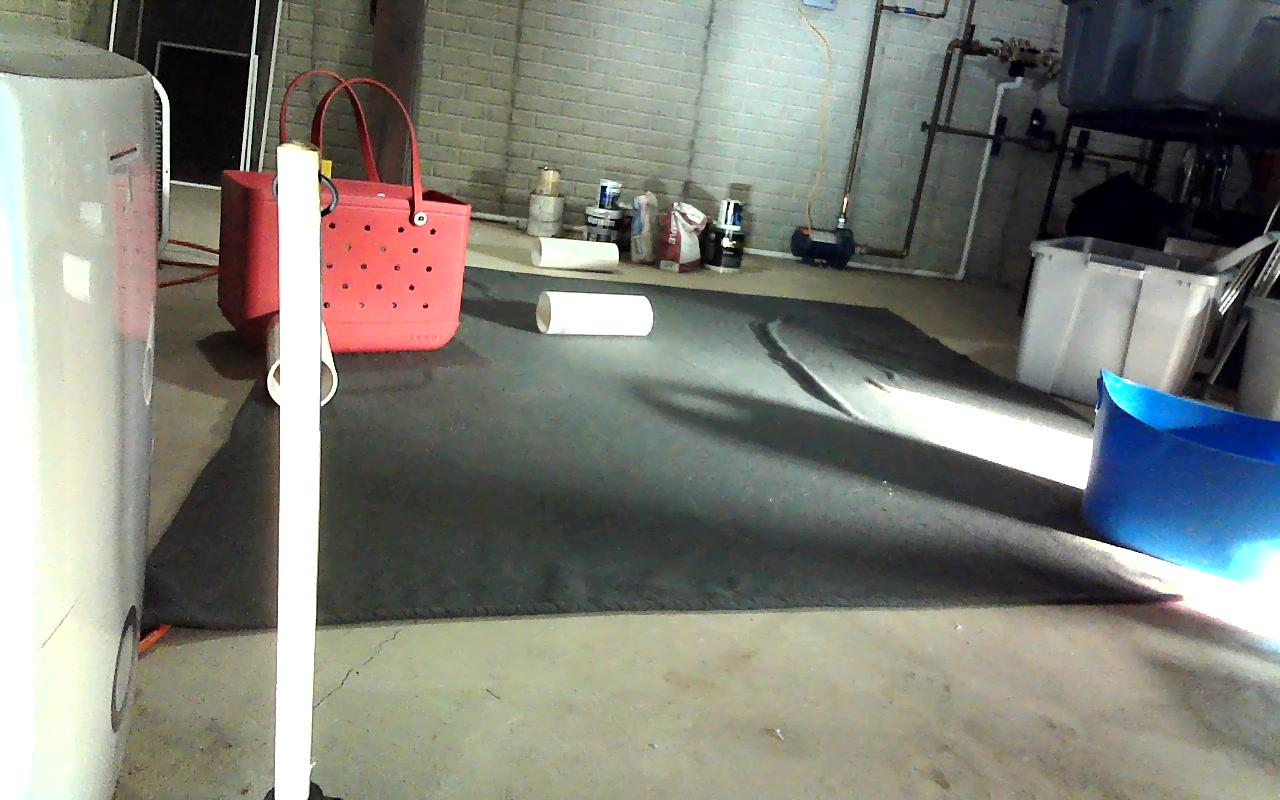coral: (267, 310, 336, 407), (536, 292, 651, 335), (535, 239, 618, 272)
